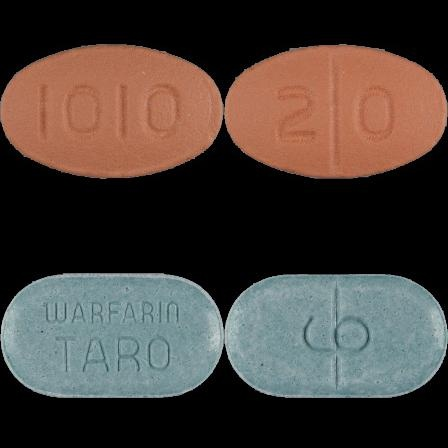61786-589: (0, 0, 224, 224)
